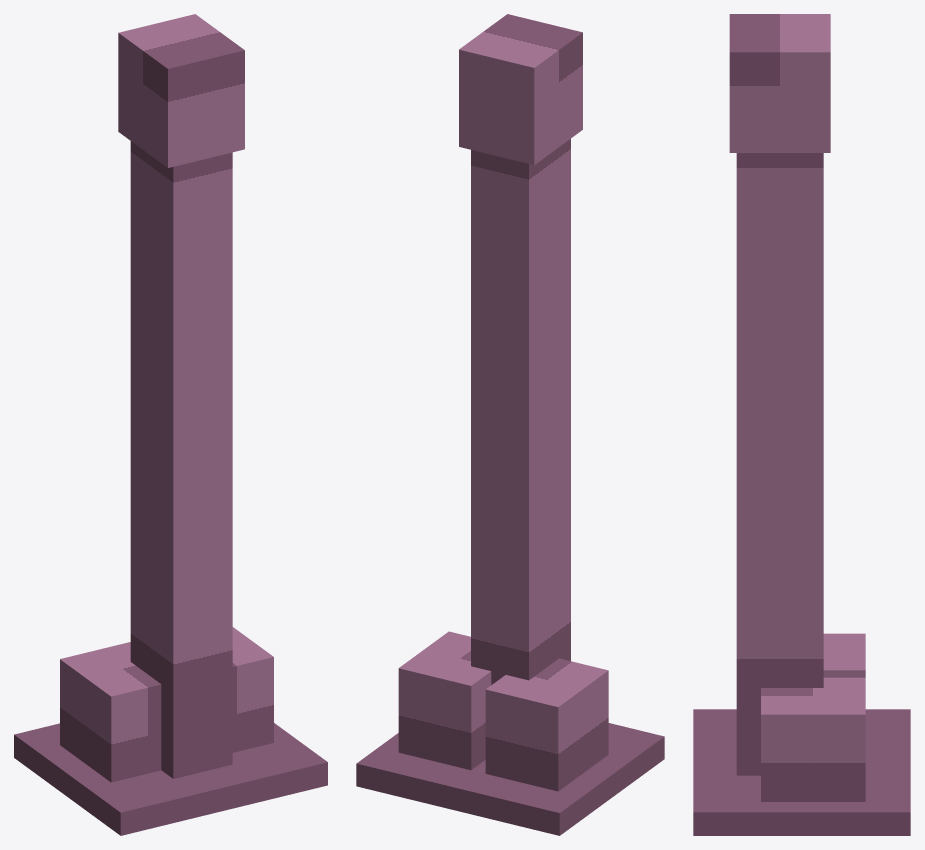
The model's file is dildoooo.gltf.
The picture shows the model from 3 angles, left to right: view 1: azimuth 30°, elevation 25°; view 2: azimuth 150°, elevation 25°; view 3: azimuth 270°, elevation 25°; orthographic projection. The views are drawn at different scales.
Visible parts, largest first — view 1: cube (×6); view 2: cube (×6); view 3: cube (×6).
Boxes of the visible parts, x1,y1,x2,y2 form: cube (×6): (14,14,327,835); cube (×6): (356,14,664,835); cube (×6): (693,14,910,835).
Size of the model in its own units: 0.35 by 1.19 by 0.3125.
Materials: 1 (1 with a texture image).
